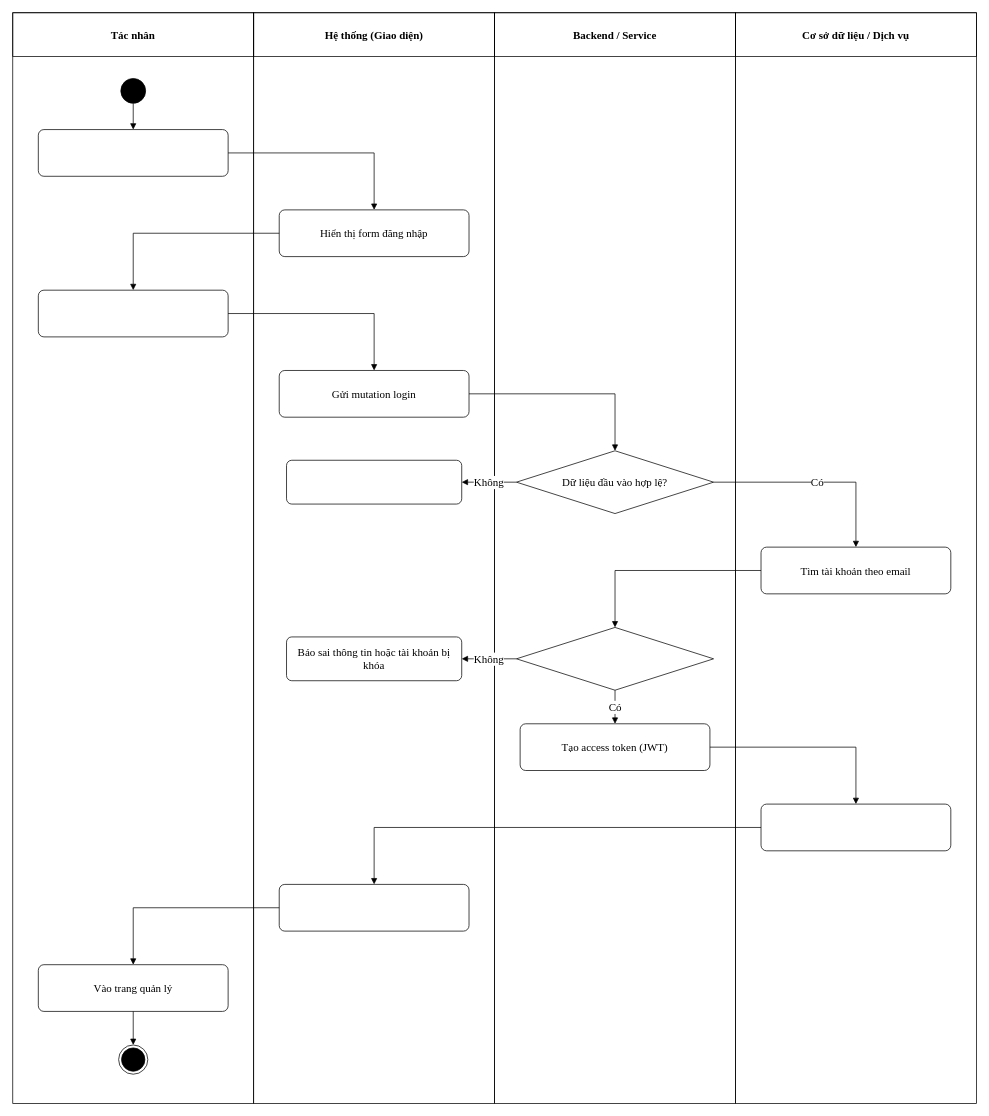
Image size: 989x1116. Some labels were removed from this diagram. The shapes that lost their labels are listed below. From the top down, each one's box as (x1, y1, x2, y2) in pixels, then its label:
(38, 129, 228, 176): Mở trang đăng nhập
(38, 289, 228, 337): Nhập email và mật khẩu
(286, 460, 462, 504): Hiển thị lỗi nhập liệu
(516, 627, 714, 690): Mật khẩu khớp, tài khoản hoạt động?
(760, 803, 951, 851): Lưu refresh token vào Redis
(278, 884, 469, 931): Lưu token, chuyển tới Dashboard
